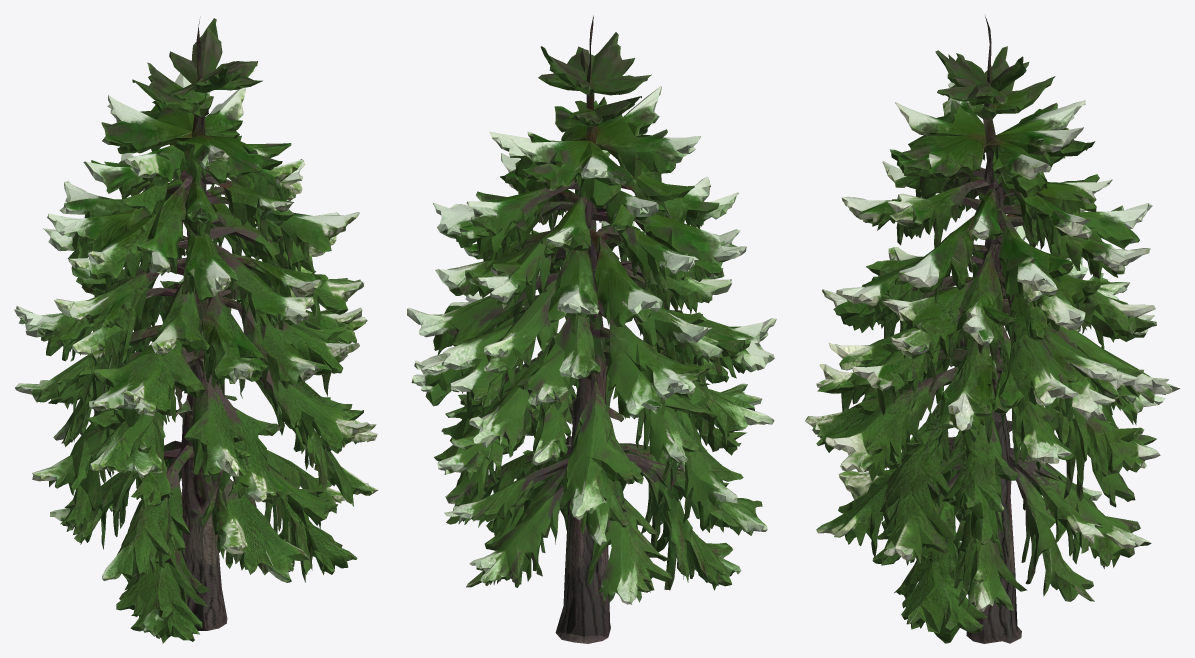
The picture shows the model from 3 angles, left to right: view 1: azimuth 30°, elevation 25°; view 2: azimuth 150°, elevation 25°; view 3: azimuth 270°, elevation 25°; orthographic projection.
Size of the model in its own units: 0.9426 by 1.76 by 0.9723.
1 material, 1 textured.
